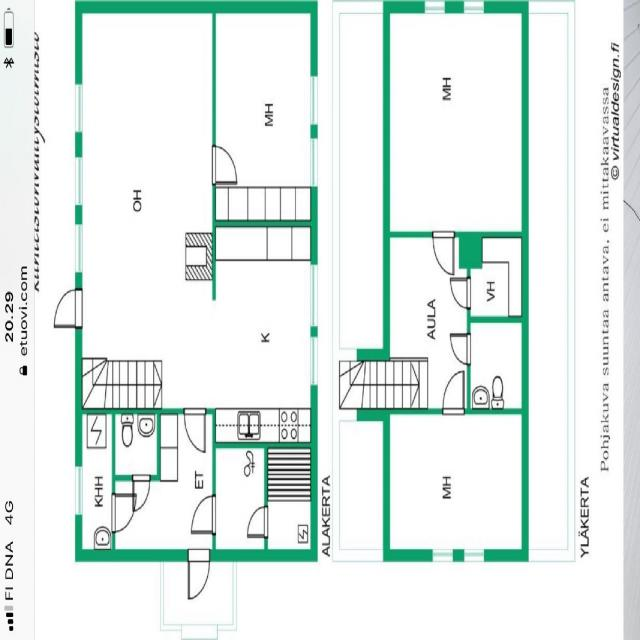door: (188, 550, 210, 600), (54, 288, 82, 326), (184, 408, 206, 453), (112, 494, 136, 532), (442, 372, 463, 415), (191, 496, 216, 532), (433, 232, 454, 274), (212, 146, 236, 182), (132, 474, 150, 510), (247, 506, 267, 537), (450, 334, 470, 364), (450, 278, 470, 308)
